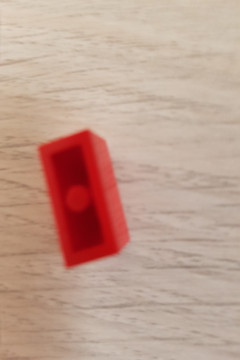1x2 red: (34, 130, 133, 271)
